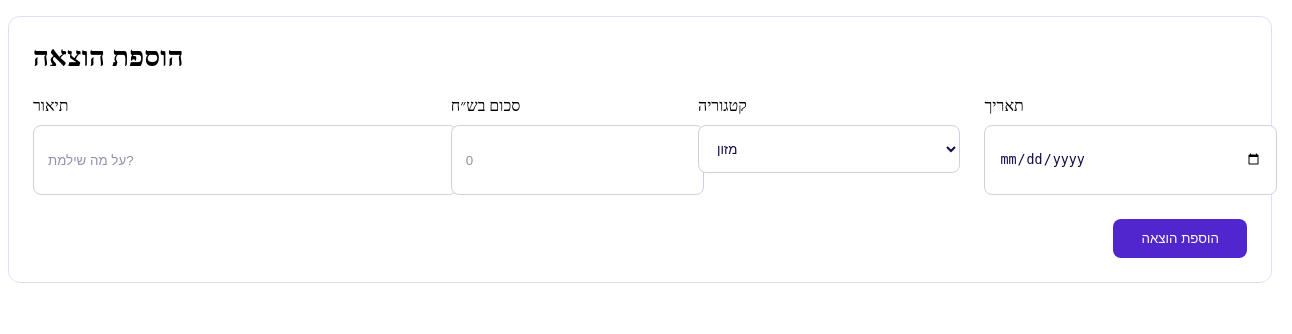
Test: rejects a negative amount
מילוי תיאור תקין
Type "בדיקת סכום שלילי" into the field labelled "תיאור".
click(245, 160); type("בדיקת סכום שלילי")  # box [33,125,457,195]
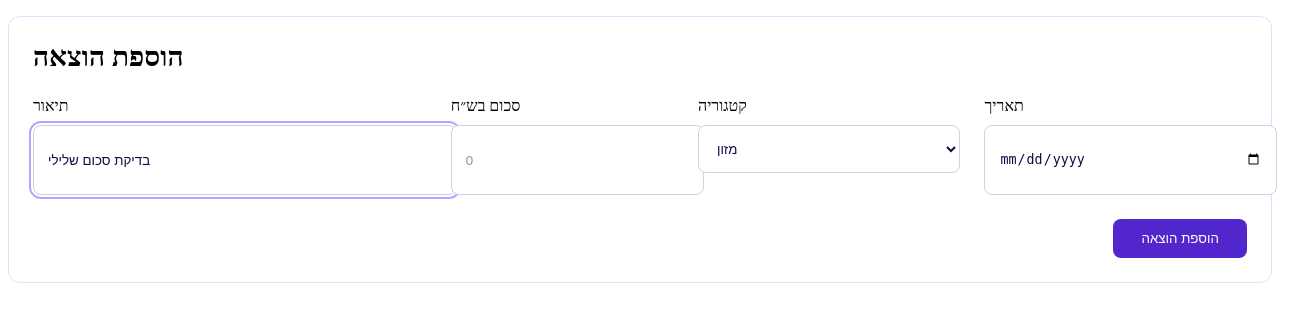
הזנת סכום שאינו תקין
Type "-10" into the number field labelled "סכום בש״ח".
click(577, 160); type("-10")  # box [451,125,704,195]
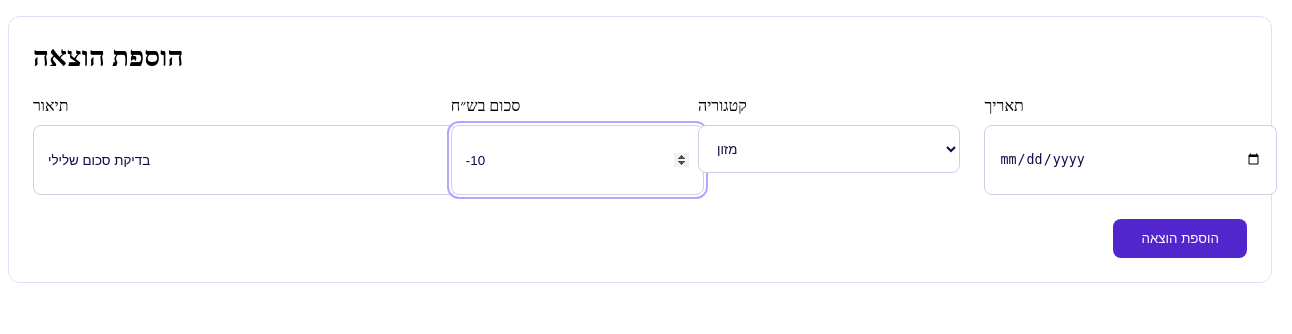
Type "2026-10-28" into the date field labelled "תאריך".
click(1131, 160); type("2026-10-28")  # box [984,125,1277,195]
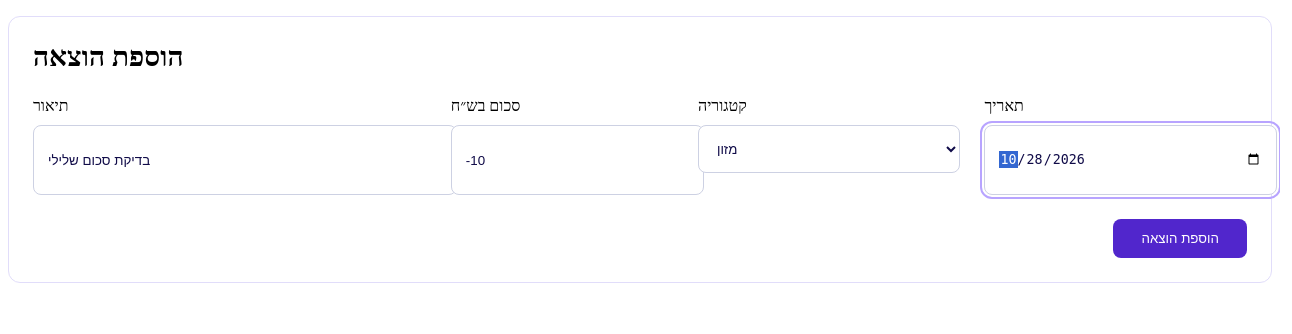
Click the button "הוספת הוצאה".
click(1180, 238)  # box [1113,219,1247,258]
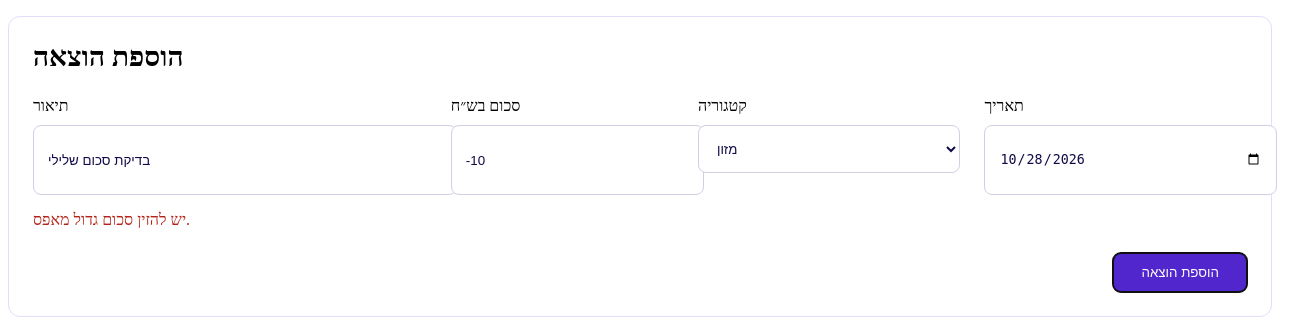
Result: the message reads "יש להזין סכום גדול מאפס." at [33,211,190,228]
